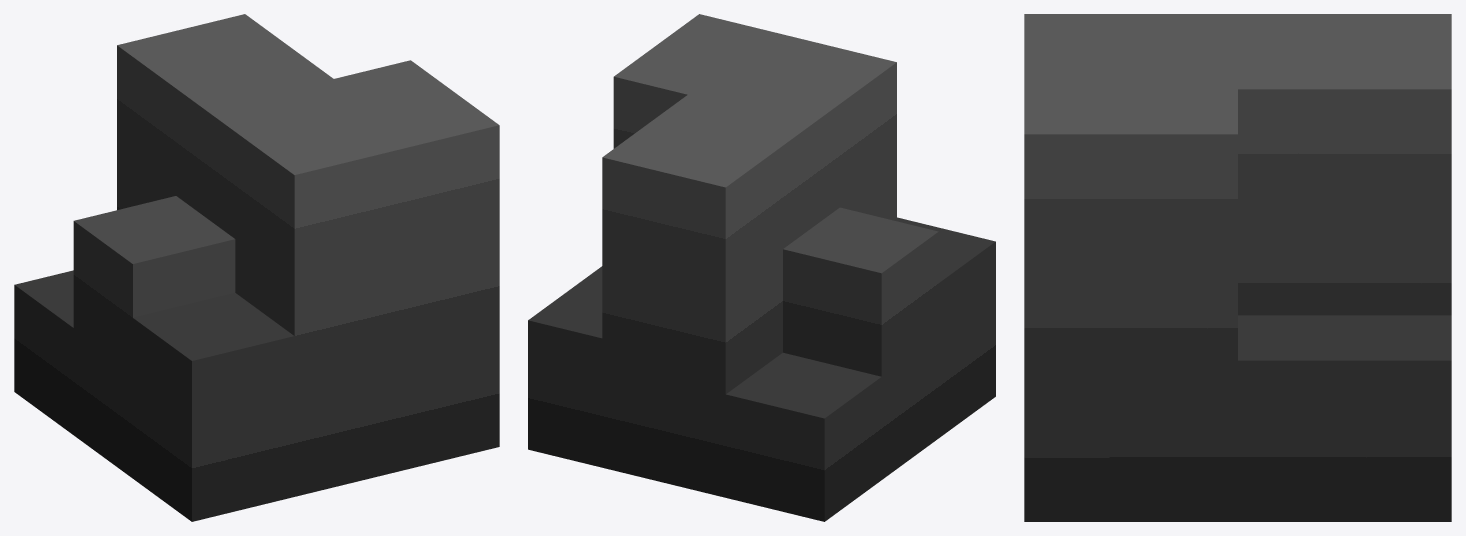
File: Stone_4_LODGroup.fbx
3 renders of one model, left to right at view 1: azimuth 30°, elevation 25°; view 2: azimuth 150°, elevation 25°; view 3: azimuth 270°, elevation 25°, orthographic. The views are drawn at different scales.
Parts seen in each view (by area): view 1: Stone_4_LOD0; view 2: Stone_4_LOD0; view 3: Stone_4_LOD0.
Boxes of the visible parts, left/top/right/bottom form: Stone_4_LOD0: left=14, top=14, right=499, bottom=521; Stone_4_LOD0: left=528, top=14, right=995, bottom=521; Stone_4_LOD0: left=1024, top=14, right=1451, bottom=521.
Size of what is drawn, in the model's own units: 0.804 by 0.804 by 0.804.
